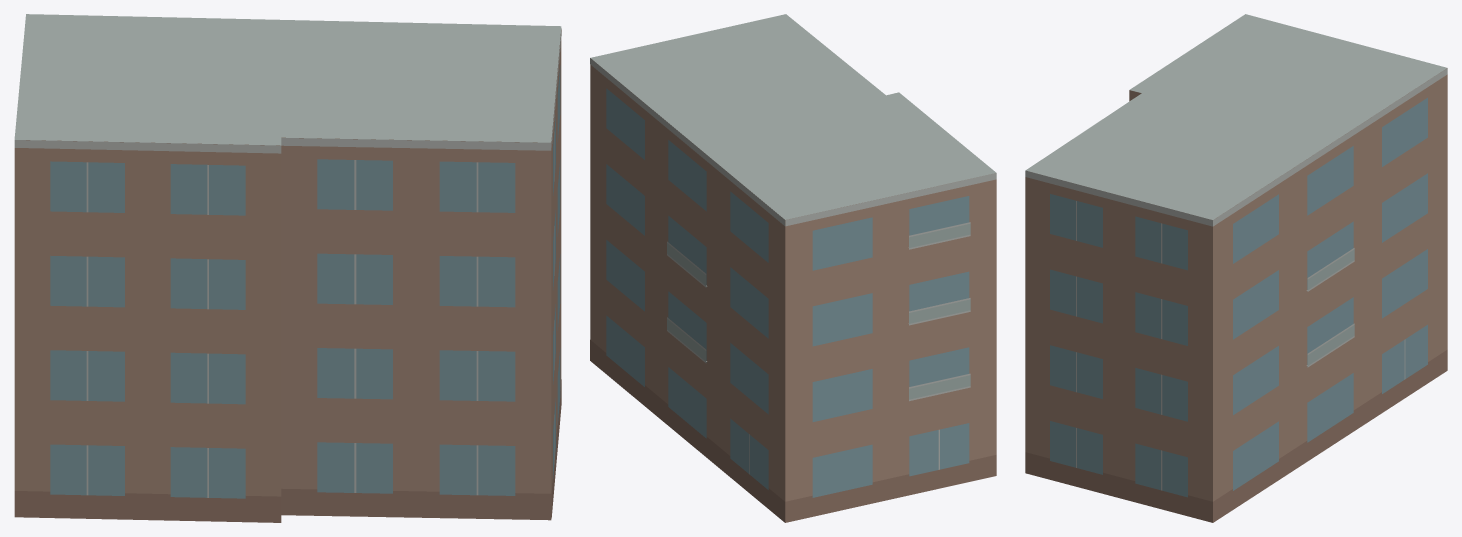
The model's file is survey-upis-32880155.glb.
3 renders of one model, left to right at view 1: azimuth 30°, elevation 25°; view 2: azimuth 150°, elevation 25°; view 3: azimuth 270°, elevation 25°, orthographic. The views are drawn at different scales.
Parts seen in each view (by area): view 1: survey-upis-32880155.tmp; view 2: survey-upis-32880155.tmp; view 3: survey-upis-32880155.tmp.
Boxes of the visible parts, x1,y1,x2,y2 form: survey-upis-32880155.tmp: (14, 14, 561, 522); survey-upis-32880155.tmp: (590, 14, 996, 522); survey-upis-32880155.tmp: (1025, 14, 1447, 522).
Size of the model in its own units: 16.66 by 11.4 by 14.42.
